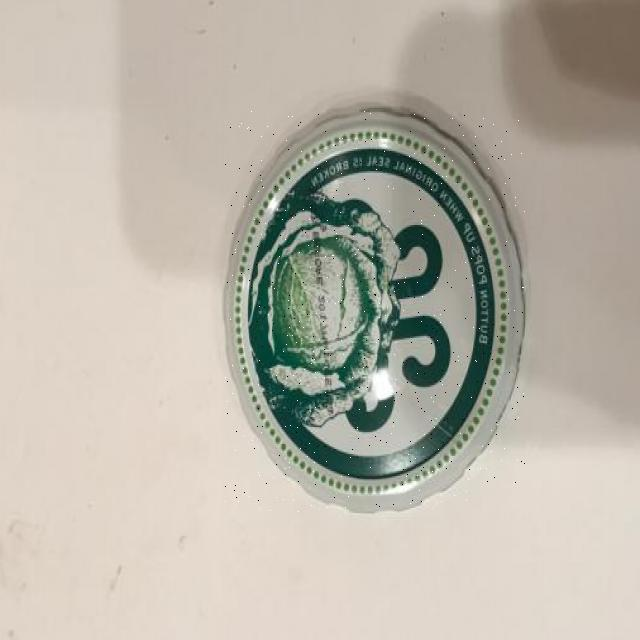metal: (225, 111, 525, 512)
